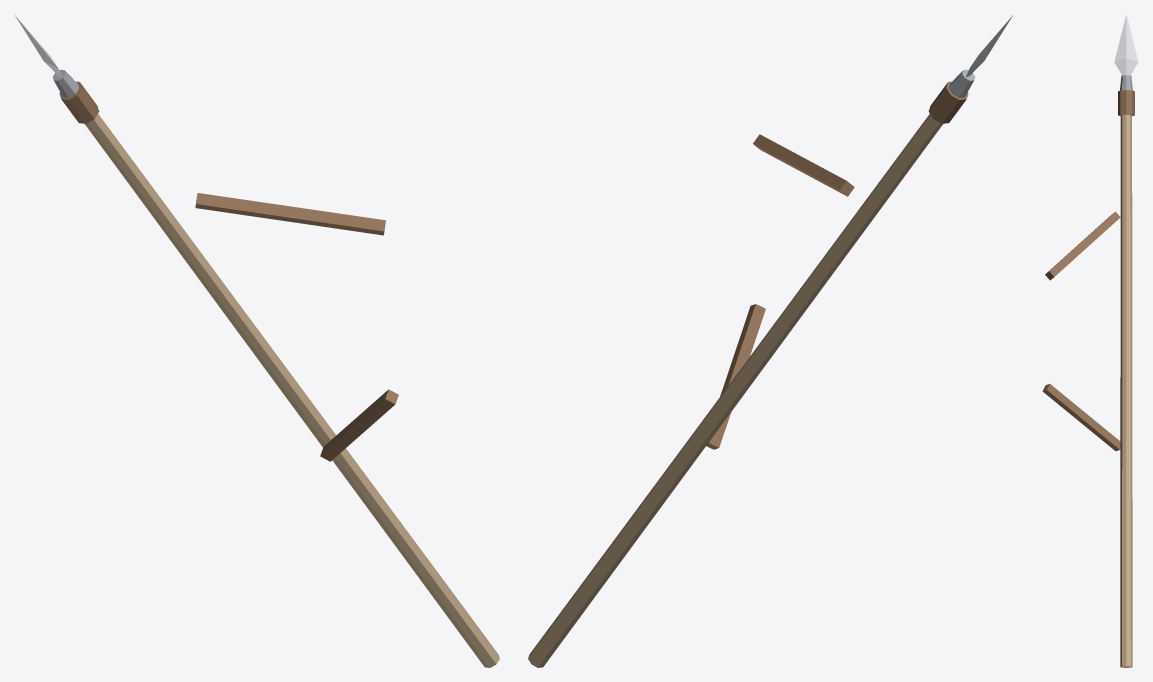
File: load_spears.glb
3 renders of one model, left to right at view 1: azimuth 30°, elevation 25°; view 2: azimuth 150°, elevation 25°; view 3: azimuth 270°, elevation 25°, orthographic. The views are drawn at different scales.
Visible parts, largest first — view 1: Carry.Spear, Carry.Spear.Strap, Carry.Spear.Strap#2, Carry.Spear.Binding; view 2: Carry.Spear, Carry.Spear.Strap, Carry.Spear.Strap#2, Carry.Spear.Binding; view 3: Carry.Spear, Carry.Spear.Strap#2, Carry.Spear.Head, Carry.Spear.Strap, Carry.Spear.Binding, Carry.Spear.Socket.
Part boxes in pixels (<box>): Carry.Spear: <box>85,114,499,667</box>; Carry.Spear.Strap: <box>195,193,385,235</box>; Carry.Spear.Strap#2: <box>320,389,398,461</box>; Carry.Spear.Binding: <box>59,81,99,123</box>; Carry.Spear: <box>528,114,942,667</box>; Carry.Spear.Strap: <box>753,134,854,196</box>; Carry.Spear.Strap#2: <box>706,304,765,449</box>; Carry.Spear.Binding: <box>928,81,968,123</box>; Carry.Spear: <box>1120,114,1132,667</box>; Carry.Spear.Strap#2: <box>1042,384,1120,451</box>; Carry.Spear.Head: <box>1114,14,1138,75</box>; Carry.Spear.Strap: <box>1045,211,1120,280</box>; Carry.Spear.Binding: <box>1118,90,1134,116</box>; Carry.Spear.Socket: <box>1120,75,1132,90</box>.
Size of the model in its own units: 1.06 by 1.6 by 0.2769.
